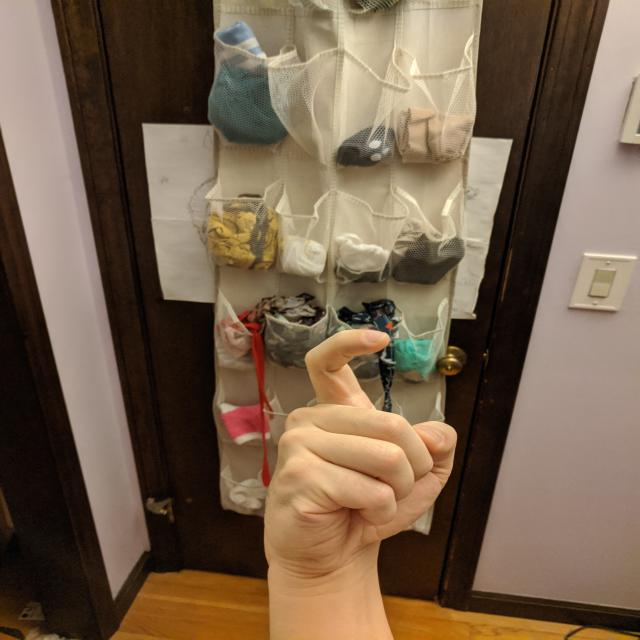X: (257, 324, 463, 573)
